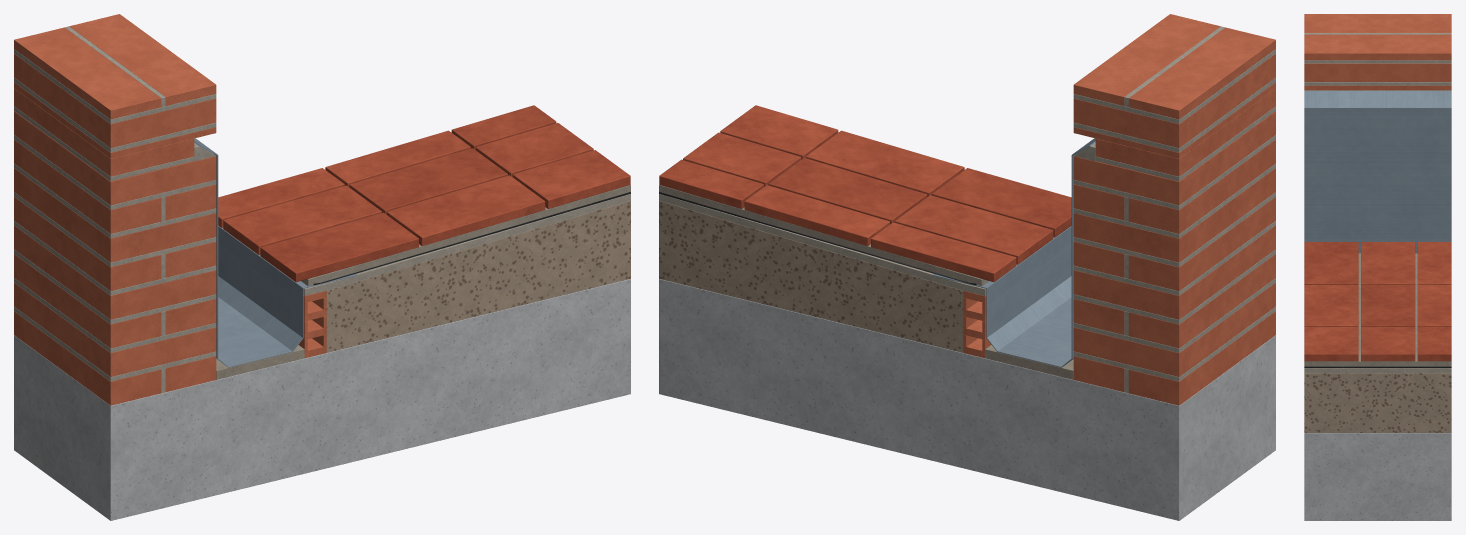
Rendered from detalle2_nte_qat17_canalon.glb.
3 renders of one model, left to right at view 1: azimuth 30°, elevation 25°; view 2: azimuth 150°, elevation 25°; view 3: azimuth 270°, elevation 25°, orthographic. The views are drawn at different scales.
Visible parts, largest first — view 1: Q17_Forjado, Q17_WallBricks, Q17_Rasilla, Q17_HormigonAlig, Q17_ZincGutter, Q17_RegMortar, Q17_Agarre, Q17_PTL7_Bricks, Q17_RPE3, Q17_Membrane; view 2: Q17_Forjado, Q17_WallBricks, Q17_Rasilla, Q17_HormigonAlig, Q17_ZincGutter, Q17_RegMortar, Q17_Agarre, Q17_PTL7_Bricks, Q17_RPE3, Q17_Membrane; view 3: Q17_ZincGutter, Q17_Rasilla, Q17_Forjado, Q17_WallBricks, Q17_HormigonAlig, Q17_Agarre, Q17_RegMortar, Q17_Membrane.
Part boxes in pixels (x1,y1,x2,y2): Q17_Forjado: [14, 279, 630, 520]; Q17_WallBricks: [14, 14, 216, 405]; Q17_Rasilla: [218, 105, 630, 282]; Q17_HormigonAlig: [326, 200, 630, 352]; Q17_ZincGutter: [194, 138, 357, 367]; Q17_RegMortar: [194, 143, 630, 295]; Q17_Agarre: [301, 185, 630, 286]; Q17_PTL7_Bricks: [298, 291, 326, 358]; Q17_RPE3: [216, 345, 304, 379]; Q17_Membrane: [313, 192, 630, 285]; Q17_Forjado: [659, 279, 1275, 520]; Q17_WallBricks: [1073, 14, 1275, 405]; Q17_Rasilla: [659, 105, 1071, 282]; Q17_HormigonAlig: [659, 200, 963, 352]; Q17_ZincGutter: [932, 138, 1095, 367]; Q17_RegMortar: [659, 143, 1095, 295]; Q17_Agarre: [659, 185, 988, 286]; Q17_PTL7_Bricks: [963, 291, 991, 358]; Q17_RPE3: [985, 345, 1073, 379]; Q17_Membrane: [659, 192, 976, 285]; Q17_ZincGutter: [1304, 91, 1451, 253]; Q17_Rasilla: [1304, 242, 1451, 361]; Q17_Forjado: [1304, 433, 1451, 520]; Q17_WallBricks: [1304, 14, 1451, 90]; Q17_HormigonAlig: [1304, 373, 1451, 432]; Q17_Agarre: [1304, 253, 1451, 366]; Q17_RegMortar: [1304, 90, 1451, 373]; Q17_Membrane: [1304, 366, 1451, 367].
Bounding box in the file's own units: 1.18 × 0.89 × 0.38.
9 materials, 9 textured.
